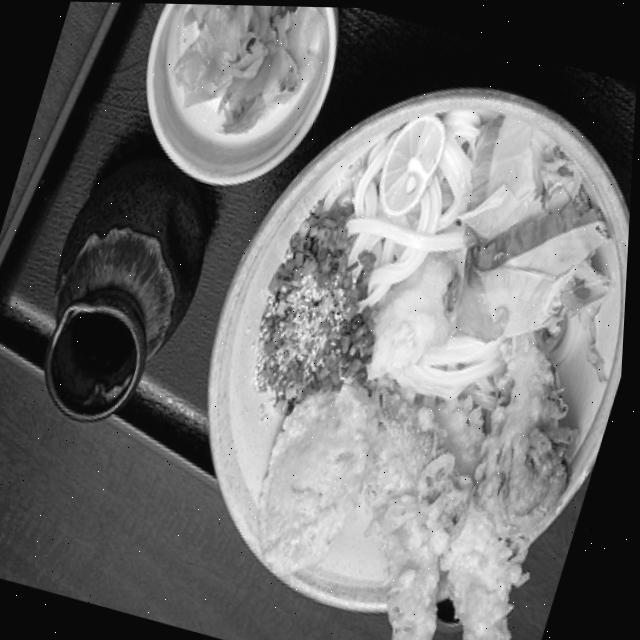面条主食: (172, 62, 638, 640)
